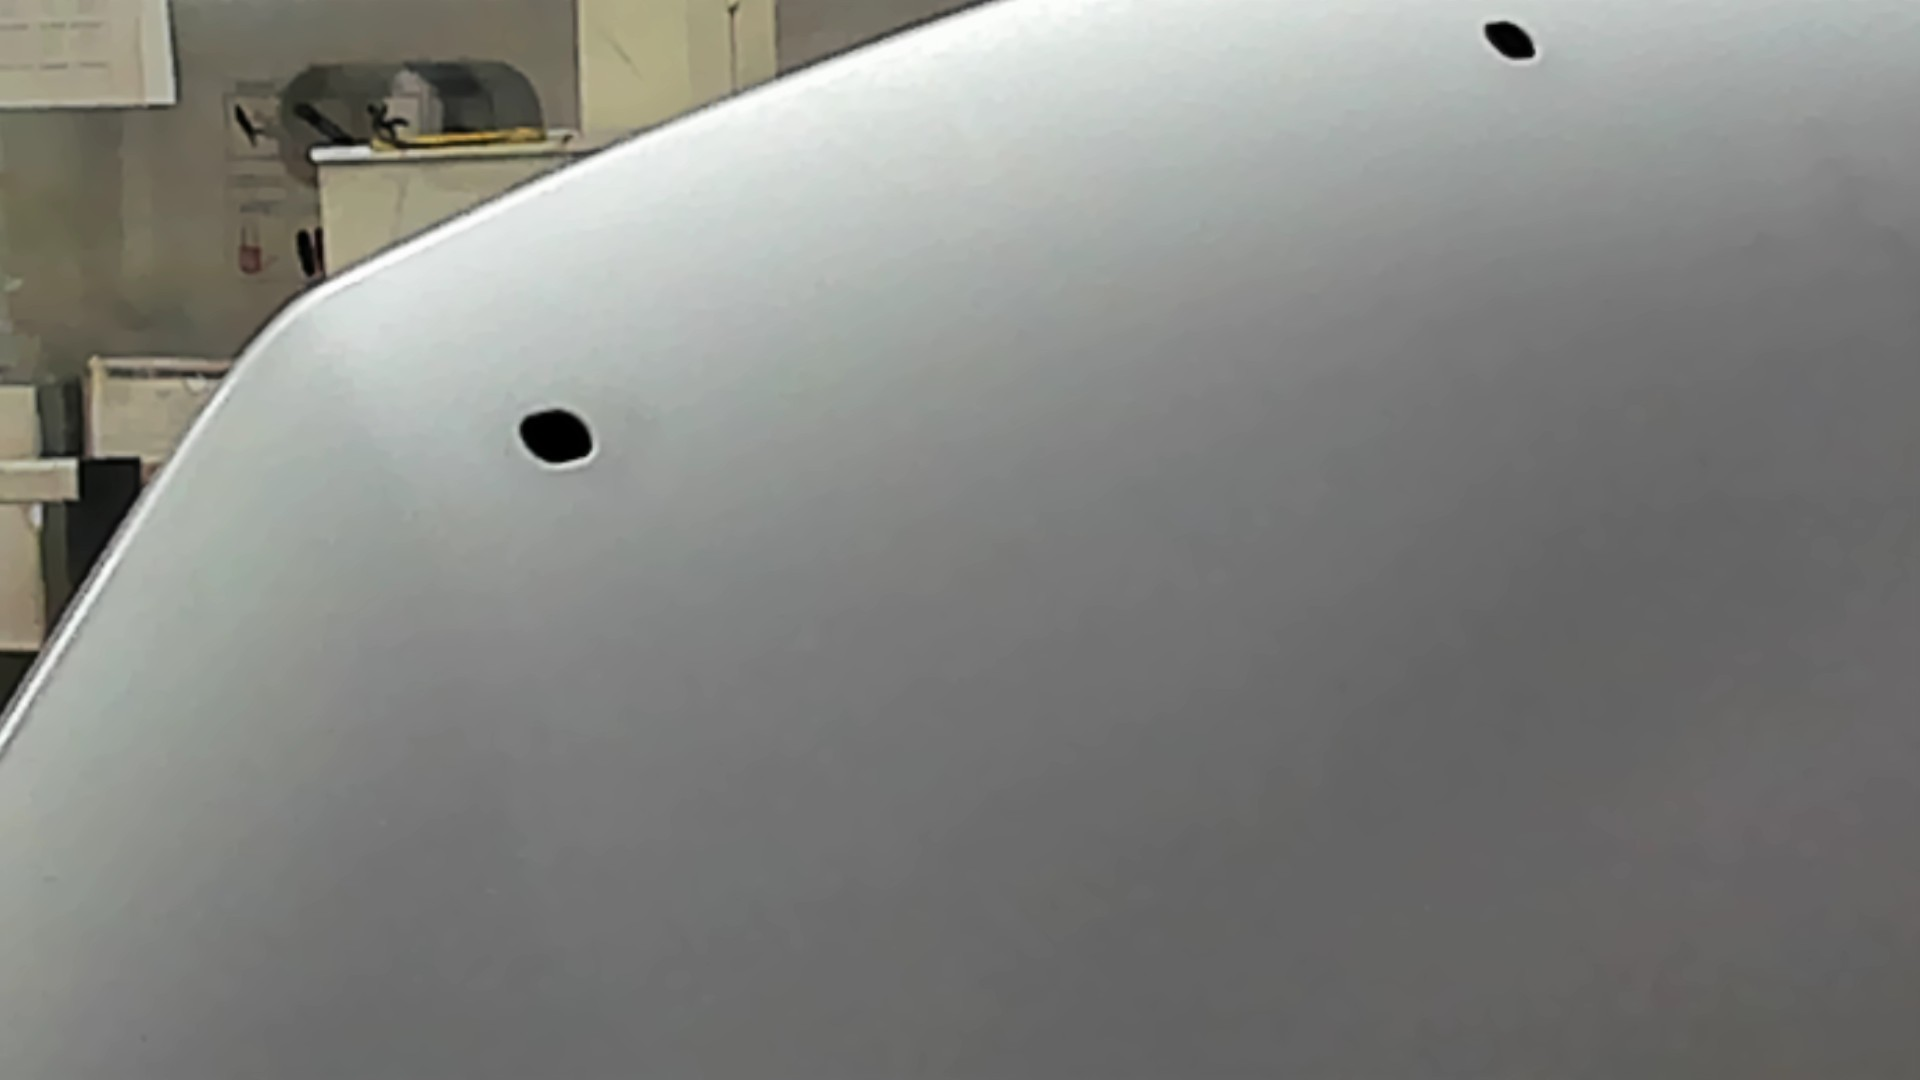Agujero: (514, 405, 597, 469), (1480, 17, 1542, 65)
